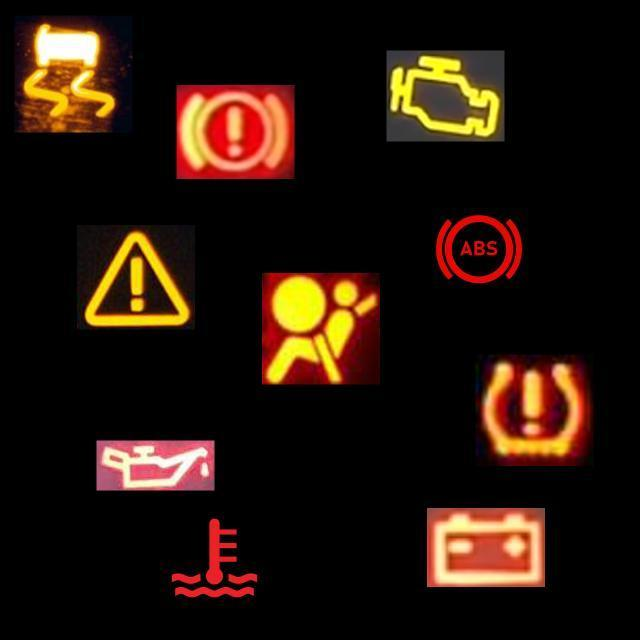Central Warning lamp: (77, 224, 195, 330)
Engine cooling system: (156, 499, 274, 617)
